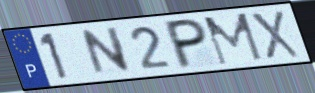1: (38, 30, 71, 82)
2: (129, 25, 173, 71)
M: (201, 11, 266, 67)
N: (79, 25, 134, 78)
P: (164, 17, 208, 71)
X: (247, 9, 303, 61)
